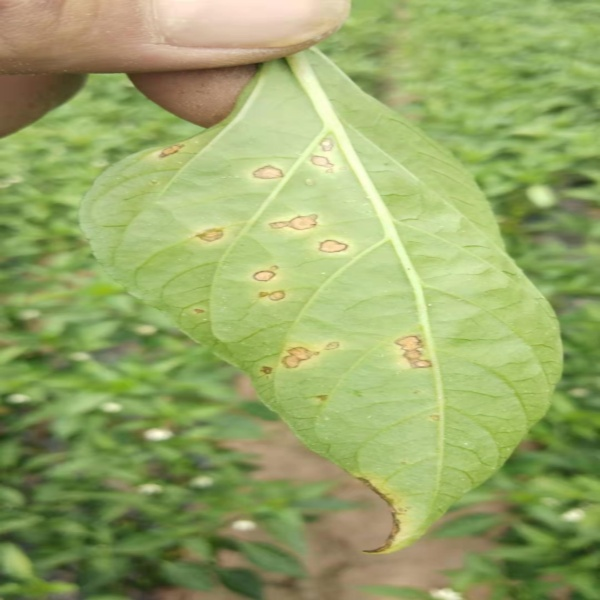Anthrax: (246, 127, 438, 393), (186, 217, 232, 248), (155, 137, 188, 161), (191, 304, 212, 320)
